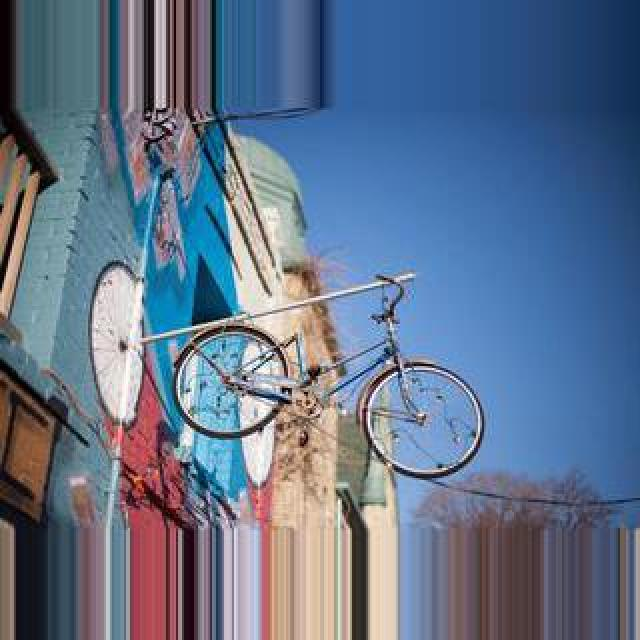Person: (169, 267, 487, 487)
